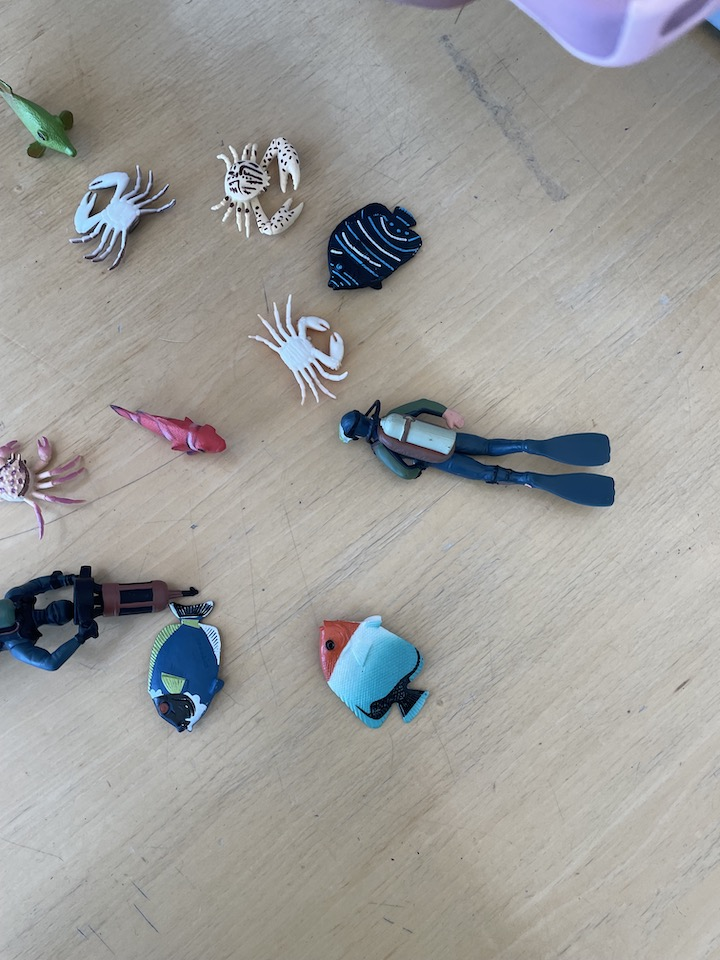crab: (64, 159, 178, 270), (247, 293, 349, 406), (208, 133, 309, 240), (1, 431, 91, 539)
diver: (333, 394, 620, 511), (1, 558, 199, 674)
fish: (314, 611, 433, 733), (142, 594, 230, 737), (321, 198, 425, 296), (104, 399, 231, 458), (1, 76, 80, 162)
